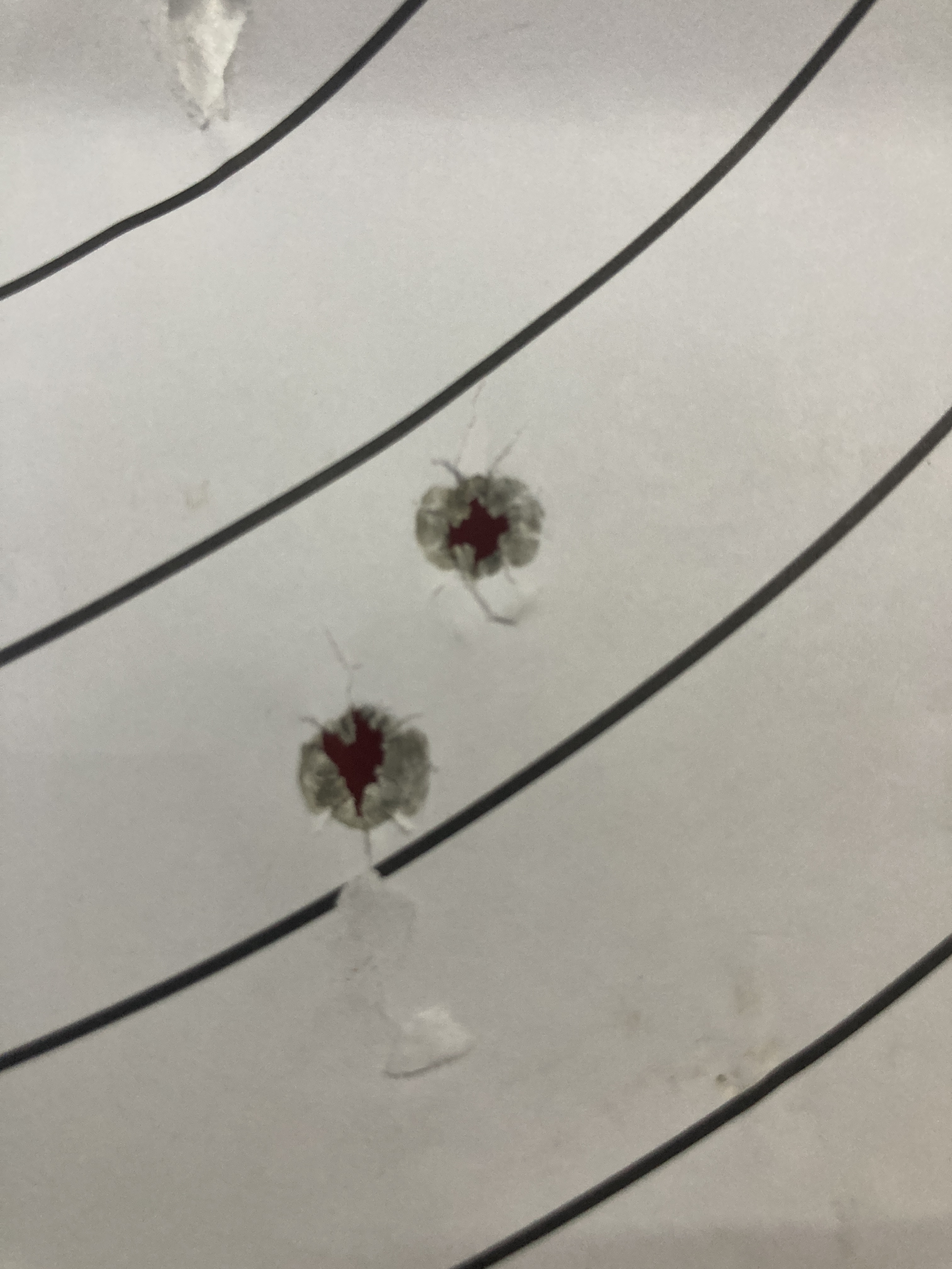hole: (264, 670, 494, 888), (387, 428, 557, 617)
